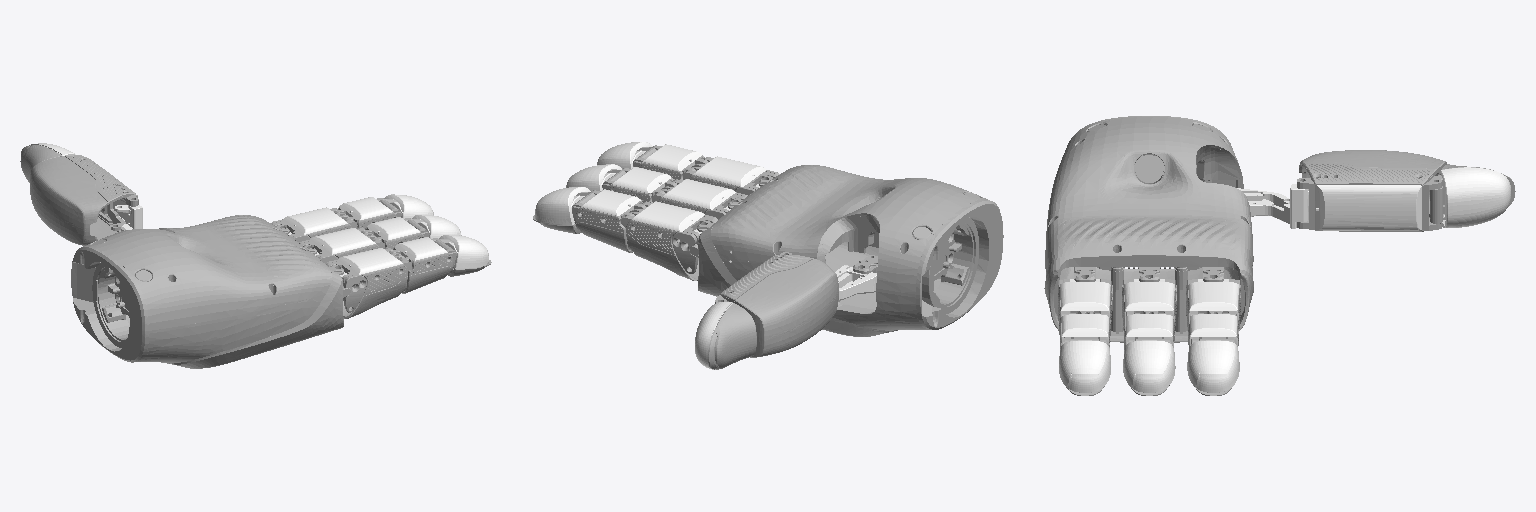
--- Facts derived from the render (not from the file) ---
The picture shows the robot from 3 angles, left to right: view 1: azimuth 30°, elevation 25°; view 2: azimuth 150°, elevation 25°; view 3: azimuth 270°, elevation 25°; orthographic projection.
Model DH13_left_palm_URDF with 28 links and 27 joints (16 revolute, 11 fixed), rooted at left_palm_link, posed all joints at 0.
Links seen in each view (by area): view 1: left_palm_link, left_thumb_link_2, left_ring_link_1, left_ring_link_2, left_ring_tactile_link_2, left_index_tactile_link_0, left_middle_tactile_link_0, left_ring_tactile_link_0, left_index_tactile_link_1, left_middle_tactile_link_1, left_ring_tactile_link_1, left_index_tactile_link_2 (+4 smaller); view 2: left_palm_link, left_thumb_link_2, left_index_link_1, left_thumb_link_3, left_index_link_2, left_index_tactile_link_2, left_middle_tactile_link_0, left_index_tactile_link_0, left_ring_tactile_link_0, left_thumb_tactile_link_1, left_middle_tactile_link_1, left_index_tactile_link_1 (+7 smaller); view 3: left_palm_link, left_thumb_link_2, left_thumb_tactile_link_0, left_thumb_tactile_link_1, left_index_tactile_link_2, left_middle_tactile_link_2, left_ring_tactile_link_2, left_thumb_link_1, left_middle_tactile_link_0, left_index_tactile_link_0, left_ring_tactile_link_0, left_ring_tactile_link_1 (+3 smaller).
Boxes of the visible links, box(x1,y1,x2,y2) form: left_palm_link: box(71, 215, 343, 368); left_thumb_link_2: box(30, 155, 138, 245); left_ring_link_1: box(326, 248, 411, 318); left_ring_link_2: box(390, 238, 456, 293); left_ring_tactile_link_2: box(439, 235, 488, 268); left_index_tactile_link_0: box(282, 207, 347, 236); left_middle_tactile_link_0: box(310, 228, 375, 255); left_ring_tactile_link_0: box(338, 248, 402, 276); left_index_tactile_link_1: box(340, 197, 393, 220); left_middle_tactile_link_1: box(367, 217, 420, 240); left_ring_tactile_link_1: box(395, 237, 447, 260); left_index_tactile_link_2: box(384, 194, 433, 218); left_palm_link: box(697, 165, 1003, 336); left_thumb_link_2: box(715, 252, 838, 357); left_index_link_1: box(621, 202, 717, 280); left_thumb_link_3: box(708, 303, 756, 369); left_index_link_2: box(572, 190, 646, 252); left_index_tactile_link_2: box(535, 187, 590, 224); left_middle_tactile_link_0: box(662, 179, 735, 211); left_index_tactile_link_0: box(631, 201, 704, 233); left_ring_tactile_link_0: box(692, 156, 765, 188); left_thumb_tactile_link_1: box(695, 302, 732, 369); left_middle_tactile_link_1: box(612, 167, 670, 193); left_index_tactile_link_1: box(581, 189, 640, 215); left_palm_link: box(1044, 116, 1253, 342); left_thumb_link_2: box(1297, 150, 1446, 231); left_thumb_tactile_link_0: box(1315, 185, 1421, 230); left_thumb_tactile_link_1: box(1440, 167, 1510, 227); left_index_tactile_link_2: box(1187, 340, 1239, 392); left_middle_tactile_link_2: box(1123, 340, 1175, 392); left_ring_tactile_link_2: box(1059, 340, 1110, 392); left_thumb_link_1: box(1237, 184, 1308, 228); left_middle_tactile_link_0: box(1124, 282, 1174, 310); left_index_tactile_link_0: box(1188, 282, 1238, 310); left_ring_tactile_link_0: box(1060, 282, 1110, 310); left_ring_tactile_link_1: box(1061, 314, 1108, 338).
Bounding box of the posed robot: 0.2351 × 0.231 × 0.0734 m (x, y, z).
Meshes: 28 distinct files referenced, 28 mesh visuals loaded (28 binary STL).

URDF robot description (DH13_left_palm_URDF):
<?xml version="1.0" encoding="utf-8"?>
<!-- This URDF was automatically created by SolidWorks to URDF Exporter! Originally created by Stephen Brawner ([email redacted]) 
     Commit Version: 1.6.0-4-g7f85cfe  Build Version: 1.6.7995.38578
     For more information, please see http://wiki.ros.org/sw_urdf_exporter -->
<robot
  name="DH13_left_palm_URDF">
  <link
    name="left_palm_link">
    <inertial>
      <origin
        xyz="0.0619602537322517 -0.000652875271475922 -0.0092300598640252"
        rpy="0 0 0" />
      <mass
        value="0.114850035049116" />
      <inertia
        ixx="0.000115733938774448"
        ixy="-3.21376034417078E-06"
        ixz="4.4061553978203E-06"
        iyy="0.000144743588986273"
        iyz="1.25052855296544E-06"
        izz="0.000233626280335495" />
    </inertial>
    <visual>
      <origin
        xyz="0 0 0"
        rpy="0 0 0" />
      <geometry>
        <mesh
          filename="../meshes/left_palm_link.STL" />
      </geometry>
      <material
        name="">
        <color
          rgba="0.752941176470588 0.752941176470588 0.752941176470588 1" />
      </material>
    </visual>
    <collision>
      <origin
        xyz="0 0 0"
        rpy="0 0 0" />
      <geometry>
        <mesh
          filename="../meshes/left_palm_link.STL" />
      </geometry>
    </collision>
  </link>
  <link
    name="left_index_link_0">
    <inertial>
      <origin
        xyz="0.000308195228183816 8.3996368194228E-10 8.96247998483091E-07"
        rpy="0 0 0" />
      <mass
        value="0.000177081456631794" />
      <inertia
        ixx="3.47636832307396E-09"
        ixy="-1.07333694547142E-16"
        ixz="-4.63192644831629E-13"
        iyy="6.72350002205211E-10"
        iyz="4.77943054887936E-17"
        izz="3.89708440173793E-09" />
    </inertial>
    <visual>
      <origin
        xyz="0 0 0"
        rpy="0 0 0" />
      <geometry>
        <mesh
          filename="../meshes/left_index_link_0.STL" />
      </geometry>
      <material
        name="">
        <color
          rgba="1 1 1 1" />
      </material>
    </visual>
    <collision>
      <origin
        xyz="0 0 0"
        rpy="0 0 0" />
      <geometry>
        <mesh
          filename="../meshes/left_index_link_0.STL" />
      </geometry>
    </collision>
  </link>
  <joint
    name="left_index_joint_0"
    type="revolute">
    <origin
      xyz="0.13528 0.0315 0.0017506"
      rpy="0 0 0" />
    <parent
      link="left_palm_link" />
    <child
      link="left_index_link_0" />
    <axis
      xyz="0 0 1" />
    <limit
      lower="-0.35"
      upper="0.35"
      effort="0"
      velocity="0" />
  </joint>
  <link
    name="left_index_link_1">
    <inertial>
      <origin
        xyz="0.0194589396792431 -0.00896260550719846 0.000103935319982956"
        rpy="0 0 0" />
      <mass
        value="0.00781831321760231" />
      <inertia
        ixx="7.53998255564426E-07"
        ixy="-1.78834042256135E-07"
        ixz="3.16446479421784E-08"
        iyy="1.81016063783436E-06"
        iyz="3.52882515460499E-09"
        izz="1.58828020977707E-06" />
    </inertial>
    <visual>
      <origin
        xyz="0 0 0"
        rpy="0 0 0" />
      <geometry>
        <mesh
          filename="../meshes/left_index_link_1.STL" />
      </geometry>
      <material
        name="">
        <color
          rgba="0.752941176470588 0.752941176470588 0.752941176470588 1" />
      </material>
    </visual>
    <collision>
      <origin
        xyz="0 0 0"
        rpy="0 0 0" />
      <geometry>
        <mesh
          filename="../meshes/left_index_link_1.STL" />
      </geometry>
    </collision>
  </link>
  <joint
    name="left_index_joint_1"
    type="revolute">
    <origin
      xyz="0 0 0"
      rpy="1.5708 0.00014676 0" />
    <parent
      link="left_index_link_0" />
    <child
      link="left_index_link_1" />
    <axis
      xyz="0 0 1" />
    <limit
      lower="0"
      upper="1.57"
      effort="0"
      velocity="0" />
  </joint>
  <link
    name="left_index_link_2">
    <inertial>
      <origin
        xyz="0.0137649513705245 -0.00728203304246869 0.000338258416843651"
        rpy="0 0 0" />
      <mass
        value="0.00444692322606636" />
      <inertia
        ixx="3.57392566982027E-07"
        ixy="-2.93910997199545E-08"
        ixz="7.16230689801157E-09"
        iyy="5.90554757691393E-07"
        iyz="1.80533852936307E-09"
        izz="4.33455951913949E-07" />
    </inertial>
    <visual>
      <origin
        xyz="0 0 0"
        rpy="0 0 0" />
      <geometry>
        <mesh
          filename="../meshes/left_index_link_2.STL" />
      </geometry>
      <material
        name="">
        <color
          rgba="0.752941176470588 0.752941176470588 0.752941176470588 1" />
      </material>
    </visual>
    <collision>
      <origin
        xyz="0 0 0"
        rpy="0 0 0" />
      <geometry>
        <mesh
          filename="../meshes/left_index_link_2.STL" />
      </geometry>
    </collision>
  </link>
  <joint
    name="left_index_joint_2"
    type="revolute">
    <origin
      xyz="0.040003 0 0"
      rpy="0 0 0" />
    <parent
      link="left_index_link_1" />
    <child
      link="left_index_link_2" />
    <axis
      xyz="0 0 1" />
    <limit
      lower="0"
      upper="1.57"
      effort="0"
      velocity="0" />
  </joint>
  <link
    name="left_index_link_3">
    <inertial>
      <origin
        xyz="0.00645312542848664 -0.0108039535066214 -3.55223693510043E-06"
        rpy="0 0 0" />
      <mass
        value="0.00370197453469582" />
      <inertia
        ixx="1.63160671097686E-07"
        ixy="6.26053672413219E-08"
        ixz="2.97414131259685E-10"
        iyy="3.84815149857633E-07"
        iyz="-8.74303319855967E-10"
        izz="3.08447026411227E-07" />
    </inertial>
    <visual>
      <origin
        xyz="0 0 0"
        rpy="0 0 0" />
      <geometry>
        <mesh
          filename="../meshes/left_index_link_3.STL" />
      </geometry>
      <material
        name="">
        <color
          rgba="0.752941176470588 0.752941176470588 0.752941176470588 1" />
      </material>
    </visual>
    <collision>
      <origin
        xyz="0 0 0"
        rpy="0 0 0" />
      <geometry>
        <mesh
          filename="../meshes/left_index_link_3.STL" />
      </geometry>
    </collision>
  </link>
  <joint
    name="left_index_joint_3"
    type="revolute">
    <origin
      xyz="0.03 0 0"
      rpy="0 0 0.00014676" />
    <parent
      link="left_index_link_2" />
    <child
      link="left_index_link_3" />
    <axis
      xyz="0 0 1" />
    <limit
      lower="0"
      upper="1.57"
      effort="0"
      velocity="0" />
  </joint>
  <link
    name="left_index_tactile_link_2">
    <inertial>
      <origin
        xyz="0.00010984582558804 0.00994169856371407 0.00443460135686191"
        rpy="0 0 0" />
      <mass
        value="0.00413497248792576" />
      <inertia
        ixx="2.22394609420004E-07"
        ixy="9.01941223971379E-10"
        ixz="8.94936656027316E-10"
        iyy="2.23755964771599E-07"
        iyz="2.47116906065146E-08"
        izz="3.54572782540681E-07" />
    </inertial>
    <visual>
      <origin
        xyz="0 0 0"
        rpy="0 0 0" />
      <geometry>
        <mesh
          filename="../meshes/left_index_tactile_link_2.STL" />
      </geometry>
      <material
        name="">
        <color
          rgba="1 1 1 1" />
      </material>
    </visual>
    <collision>
      <origin
        xyz="0 0 0"
        rpy="0 0 0" />
      <geometry>
        <mesh
          filename="../meshes/left_index_tactile_link_2.STL" />
      </geometry>
    </collision>
  </link>
  <joint
    name="left_index_tactile_joint_2"
    type="fixed">
    <origin
      xyz="0.0029506 -0.0067666 0"
      rpy="1.3775 -1.5708 3.1414" />
    <parent
      link="left_index_link_3" />
    <child
      link="left_index_tactile_link_2" />
    <axis
      xyz="0 0 0" />
  </joint>
  <link
    name="left_index_tactile_link_1">
    <inertial>
      <origin
        xyz="3.04173459037271E-05 0.0109528250638169 0.000700664921281513"
        rpy="0 0 0" />
      <mass
        value="0.00146306415297411" />
      <inertia
        ixx="5.85353585161419E-08"
        ixy="2.96608428377709E-11"
        ixz="-5.95189867681097E-13"
        iyy="6.03565235525379E-08"
        iyz="-1.48257223987302E-11"
        izz="1.1599442801858E-07" />
    </inertial>
    <visual>
      <origin
        xyz="0 0 0"
        rpy="0 0 0" />
      <geometry>
        <mesh
          filename="../meshes/left_index_tactile_link_1.STL" />
      </geometry>
      <material
        name="">
        <color
          rgba="1 1 1 1" />
      </material>
    </visual>
    <collision>
      <origin
        xyz="0 0 0"
        rpy="0 0 0" />
      <geometry>
        <mesh
          filename="../meshes/left_index_tactile_link_1.STL" />
      </geometry>
    </collision>
  </link>
  <joint
    name="left_index_tactile_joint_1"
    type="fixed">
    <origin
      xyz="0.0041704026780488 0.0024993623816178 0"
      rpy="1.57079632647319 -1.57079371076035 3.14143975558269" />
    <parent
      link="left_index_link_2" />
    <child
      link="left_index_tactile_link_1" />
    <axis
      xyz="0 0 0" />
  </joint>
  <link
    name="left_index_tactile_link_0">
    <inertial>
      <origin
        xyz="-5.63511261586491E-06 0.0140750206453986 0.000861641471389035"
        rpy="0 0 0" />
      <mass
        value="0.00202349085205058" />
      <inertia
        ixx="1.39860030738531E-07"
        ixy="1.33433035671206E-11"
        ixz="-1.25814539776453E-12"
        iyy="9.15846270131491E-08"
        iyz="-2.40330492314646E-10"
        izz="2.27693006389412E-07" />
    </inertial>
    <visual>
      <origin
        xyz="0 0 0"
        rpy="0 0 0" />
      <geometry>
        <mesh
          filename="../meshes/left_index_tactile_link_0.STL" />
      </geometry>
      <material
        name="">
        <color
          rgba="1 1 1 1" />
      </material>
    </visual>
    <collision>
      <origin
        xyz="0 0 0"
        rpy="0 0 0" />
      <geometry>
        <mesh
          filename="../meshes/left_index_tactile_link_0.STL" />
      </geometry>
    </collision>
  </link>
  <joint
    name="left_index_tactile_joint_0"
    type="fixed">
    <origin
      xyz="0.00726273957609502 0.00250106588932766 0"
      rpy="-1.57058258622936 -1.57079551035267 -6.69836868960227E-05" />
    <parent
      link="left_index_link_1" />
    <child
      link="left_index_tactile_link_0" />
    <axis
      xyz="0 0 0" />
  </joint>
  <link
    name="left_middle_link_0">
    <inertial>
      <origin
        xyz="0.000308195228183816 8.3996368194228E-10 8.96247998399824E-07"
        rpy="0 0 0" />
      <mass
        value="0.000177081456631792" />
      <inertia
        ixx="3.47636832307397E-09"
        ixy="-1.07333713228059E-16"
        ixz="-4.63192644834392E-13"
        iyy="6.72350002205219E-10"
        iyz="4.77943066032148E-17"
        izz="3.89708440173795E-09" />
    </inertial>
    <visual>
      <origin
        xyz="0 0 0"
        rpy="0 0 0" />
      <geometry>
        <mesh
          filename="../meshes/left_middle_link_0.STL" />
      </geometry>
      <material
        name="">
        <color
          rgba="1 1 1 1" />
      </material>
    </visual>
    <collision>
      <origin
        xyz="0 0 0"
        rpy="0 0 0" />
      <geometry>
        <mesh
          filename="../meshes/left_middle_link_0.STL" />
      </geometry>
    </collision>
  </link>
  <joint
    name="left_middle_joint_0"
    type="revolute">
    <origin
      xyz="0.13528 0 0.0017506"
      rpy="0 0 0" />
    <parent
      link="left_palm_link" />
    <child
      link="left_middle_link_0" />
    <axis
      xyz="0 0 1" />
    <limit
      lower="-0.35"
      upper="0.35"
      effort="0"
      velocity="0" />
  </joint>
  <link
    name="left_middle_link_1">
    <inertial>
      <origin
        xyz="0.019457622435072 -0.00896546033366338 0.000103933646935978"
        rpy="0 0 0" />
      <mass
        value="0.00781831490894491" />
      <inertia
        ixx="7.53945801466218E-07"
        ixy="-1.78678915537225E-07"
        ixz="3.16451379572346E-08"
        iyy="1.81021248671102E-06"
        iyz="3.52415581506794E-09"
        izz="1.58827961090761E-06" />
    </inertial>
    <visual>
      <origin
        xyz="0 0 0"
        rpy="0 0 0" />
      <geometry>
        <mesh
          filename="../meshes/left_middle_link_1.STL" />
      </geometry>
      <material
        name="">
        <color
          rgba="0.752941176470588 0.752941176470588 0.752941176470588 1" />
      </material>
    </visual>
    <collision>
      <origin
        xyz="0 0 0"
        rpy="0 0 0" />
      <geometry>
        <mesh
          filename="../meshes/left_middle_link_1.STL" />
      </geometry>
    </collision>
  </link>
  <joint
    name="left_middle_joint_1"
    type="revolute">
    <origin
      xyz="0 0 0"
      rpy="1.5708 0 0" />
    <parent
      link="left_middle_link_0" />
    <child
      link="left_middle_link_1" />
    <axis
      xyz="0 0 1" />
    <limit
      lower="0"
      upper="1.57"
      effort="0"
      velocity="0" />
  </joint>
  <link
    name="left_middle_link_2">
    <inertial>
      <origin
        xyz="0.0137649644299684 -0.00728200835653467 0.000338258418579679"
        rpy="0 0 0" />
      <mass
        value="0.00444692322547299" />
      <inertia
        ixx="3.57392672427593E-07"
        ixy="-2.93915178686944E-08"
        ixz="7.16230366448168E-09"
        iyy="5.90554652248589E-07"
        iyz="1.80535138296381E-09"
        izz="4.33455951893041E-07" />
    </inertial>
    <visual>
      <origin
        xyz="0 0 0"
        rpy="0 0 0" />
      <geometry>
        <mesh
          filename="../meshes/left_middle_link_2.STL" />
      </geometry>
      <material
        name="">
        <color
          rgba="0.752941176470588 0.752941176470588 0.752941176470588 1" />
      </material>
    </visual>
    <collision>
      <origin
        xyz="0 0 0"
        rpy="0 0 0" />
      <geometry>
        <mesh
          filename="../meshes/left_middle_link_2.STL" />
      </geometry>
    </collision>
  </link>
  <joint
    name="left_middle_joint_2"
    type="revolute">
    <origin
      xyz="0.039999 1.0076E-05 0"
      rpy="0 0 -0.00014676" />
    <parent
      link="left_middle_link_1" />
    <child
      link="left_middle_link_2" />
    <axis
      xyz="0 0 1" />
    <limit
      lower="0"
      upper="1.57"
      effort="0"
      velocity="0" />
  </joint>
  <link
    name="left_middle_link_3">
    <inertial>
      <origin
        xyz="0.00645845506845177 -0.0108161583189998 -3.53594241853106E-06"
        rpy="0 0 0" />
      <mass
        value="0.00370196607439818" />
      <inertia
        ixx="1.63141785032963E-07"
        ixy="6.25723340931989E-08"
        ixz="2.9652268142016E-10"
        iyy="3.84830903274596E-07"
        iyz="-8.73999124197106E-10"
        izz="3.0844468006252E-07" />
    </inertial>
    <visual>
      <origin
        xyz="0 0 0"
        rpy="0 0 0" />
      <geometry>
        <mesh
          filename="../meshes/left_middle_link_3.STL" />
      </geometry>
      <material
        name="">
        <color
          rgba="0.752941176470588 0.752941176470588 0.752941176470588 1" />
      </material>
    </visual>
    <collision>
      <origin
        xyz="0 0 0"
        rpy="0 0 0" />
      <geometry>
        <mesh
          filename="../meshes/left_middle_link_3.STL" />
      </geometry>
    </collision>
  </link>
  <joint
    name="left_middle_joint_3"
    type="revolute">
    <origin
      xyz="0.03 0 0"
      rpy="0 0 0" />
    <parent
      link="left_middle_link_2" />
    <child
      link="left_middle_link_3" />
    <axis
      xyz="0 0 1" />
    <limit
      lower="0"
      upper="1.57"
      effort="0"
      velocity="0" />
  </joint>
  <link
    name="left_middle_tactile_link_2">
    <inertial>
      <origin
        xyz="0.000109843796572751 0.00994169847304438 0.00443460160649595"
        rpy="0 0 0" />
      <mass
        value="0.00413497423479914" />
      <inertia
        ixx="2.22394643777709E-07"
        ixy="9.01931646398266E-10"
        ixz="8.94950869549866E-10"
        iyy="2.23756033916929E-07"
        iyz="2.47116931169251E-08"
        izz="3.54572878083296E-07" />
    </inertial>
    <visual>
      <origin
        xyz="0 0 0"
        rpy="0 0 0" />
      <geometry>
        <mesh
          filename="../meshes/left_middle_tactile_link_2.STL" />
      </geometry>
      <material
        name="">
        <color
          rgba="1 1 1 1" />
      </material>
    </visual>
    <collision>
      <origin
        xyz="0 0 0"
        rpy="0 0 0" />
      <geometry>
        <mesh
          filename="../meshes/left_middle_tactile_link_2.STL" />
      </geometry>
    </collision>
  </link>
  <joint
    name="left_middle_tactile_joint_2"
    type="fixed">
    <origin
      xyz="0.00295538034436049 -0.0067793019488733 0"
      rpy="-1.57079779588685 -1.57079631189374 -0.193133108720079" />
    <parent
      link="left_middle_link_3" />
    <child
      link="left_middle_tactile_link_2" />
    <axis
      xyz="0 0 0" />
  </joint>
  <link
    name="left_middle_tactile_link_1">
    <inertial>
      <origin
        xyz="3.04173458565149E-05 0.0109528250637748 0.000700664921253313"
        rpy="0 0 0" />
      <mass
        value="0.0014630641530959" />
      <inertia
        ixx="5.8535358520787E-08"
        ixy="2.96608462142378E-11"
        ixz="-5.95189066401845E-13"
        iyy="6.0356523553184E-08"
        iyz="-1.48257222092271E-11"
        izz="1.1599442802394E-07" />
    </inertial>
    <visual>
      <origin
        xyz="0 0 0"
        rpy="0 0 0" />
      <geometry>
        <mesh
          filename="../meshes/left_middle_tactile_link_1.STL" />
      </geometry>
      <material
        name="">
        <color
          rgba="1 1 1 1" />
      </material>
    </visual>
    <collision>
      <origin
        xyz="0 0 0"
        rpy="0 0 0" />
      <geometry>
        <mesh
          filename="../meshes/left_middle_tactile_link_1.STL" />
      </geometry>
    </collision>
  </link>
  <joint
    name="left_middle_tactile_joint_1"
    type="fixed">
    <origin
      xyz="0.0041704 0.0024994 0"
      rpy="1.5708 -1.5708 3.1414" />
    <parent
      link="left_middle_link_2" />
    <child
      link="left_middle_tactile_link_1" />
    <axis
      xyz="0 0 0" />
  </joint>
  <link
    name="left_middle_tactile_link_0">
    <inertial>
      <origin
        xyz="-5.6351126158094E-06 0.0140750206453983 0.000861641471389119"
        rpy="0 0 0" />
      <mass
        value="0.00202349085205063" />
      <inertia
        ixx="1.39860030738536E-07"
        ixy="1.3343303567731E-11"
        ixz="-1.25814539841226E-12"
        iyy="9.1584627013148E-08"
        iyz="-2.40330492314198E-10"
        izz="2.27693006389415E-07" />
    </inertial>
    <visual>
      <origin
        xyz="0 0 0"
        rpy="0 0 0" />
      <geometry>
        <mesh
          filename="../meshes/left_middle_tactile_link_0.STL" />
      </geometry>
      <material
        name="">
        <color
          rgba="1 1 1 1" />
      </material>
    </visual>
    <collision>
      <origin
        xyz="0 0 0"
        rpy="0 0 0" />
      <geometry>
        <mesh
          filename="../meshes/left_middle_tactile_link_0.STL" />
      </geometry>
    </collision>
  </link>
  <joint
    name="left_middle_tactile_joint_0"
    type="fixed">
    <origin
      xyz="0.0072631 0.0025 0"
      rpy="-1.5706 -1.5708 -0.00021374" />
    <parent
      link="left_middle_link_1" />
    <child
      link="left_middle_tactile_link_0" />
    <axis
      xyz="0 0 0" />
  </joint>
  <link
    name="left_ring_link_0">
    <inertial>
      <origin
        xyz="0.000308195228184038 8.39963820720158E-10 8.9624799842758E-07"
        rpy="0 0 0" />
      <mass
        value="0.000177081456631795" />
      <inertia
        ixx="3.47636832307397E-09"
        ixy="-1.07333753464588E-16"
        ixz="-4.63192644834919E-13"
        iyy="6.72350002205227E-10"
        iyz="4.7794307765683E-17"
        izz="3.89708440173796E-09" />
    </inertial>
    <visual>
      <origin
        xyz="0 0 0"
        rpy="0 0 0" />
      <geometry>
        <mesh
          filename="../meshes/left_ring_link_0.STL" />
      </geometry>
      <material
        name="">
        <color
          rgba="1 1 1 1" />
      </material>
    </visual>
    <collision>
      <origin
        xyz="0 0 0"
        rpy="0 0 0" />
      <geometry>
        <mesh
          filename="../meshes/left_ring_link_0.STL" />
      </geometry>
    </collision>
  </link>
  <joint
    name="left_ring_joint_0"
    type="revolute">
    <origin
      xyz="0.13528 -0.0315 0.0017506"
      rpy="0 0 0" />
    <parent
      link="left_palm_link" />
    <child
      link="left_ring_link_0" />
    <axis
      xyz="0 0 1" />
    <limit
      lower="-0.35"
      upper="0.35"
      effort="0"
      velocity="0" />
  </joint>
  <link
    name="left_ring_link_1">
    <inertial>
      <origin
        xyz="0.0194589421687703 -0.00896260378463978 0.000103935026229768"
        rpy="0 0 0" />
      <mass
        value="0.00781831642361804" />
      <inertia
        ixx="7.53998489096856E-07"
        ixy="-1.78834151245579E-07"
        ixz="3.16444480656156E-08"
        iyy="1.81016046510851E-06"
        iyz="3.5286945874487E-09"
        izz="1.58828011730219E-06" />
    </inertial>
    <visual>
      <origin
        xyz="0 0 0"
        rpy="0 0 0" />
      <geometry>
        <mesh
          filename="../meshes/left_ring_link_1.STL" />
      </geometry>
      <material
        name="">
        <color
          rgba="0.752941176470588 0.752941176470588 0.752941176470588 1" />
      </material>
    </visual>
    <collision>
      <origin
        xyz="0 0 0"
        rpy="0 0 0" />
      <geometry>
        <mesh
          filename="../meshes/left_ring_link_1.STL" />
      </geometry>
    </collision>
  </link>
  <joint
    name="left_ring_joint_1"
    type="revolute">
    <origin
      xyz="0 0 0"
      rpy="1.5708 0.00014676 0" />
    <parent
      link="left_ring_link_0" />
    <child
      link="left_ring_link_1" />
    <axis
      xyz="0 0 1" />
    <limit
      lower="0"
      upper="1.57"
      effort="0"
      velocity="0" />
  </joint>
  <link
    name="left_ring_link_2">
    <inertial>
      <origin
        xyz="0.0137660860819728 -0.00727988774476662 0.000338258550818371"
        rpy="0 0 0" />
      <mass
        value="0.00444692317418399" />
      <inertia
        ixx="3.57401735082266E-07"
        ixy="-2.94274350935314E-08"
        ixz="7.16202698818695E-09"
        iyy="5.90545589332119E-07"
        iyz="1.80645585155151E-09"
        izz="4.33455949575736E-07" />
    </inertial>
    <visual>
      <origin
        xyz="0 0 0"
        rpy="0 0 0" />
      <geometry>
        <mesh
          filename="../meshes/left_ring_link_2.STL" />
      </geometry>
      <material
        name="">
        <color
          rgba="0.752941176470588 0.752941176470588 0.752941176470588 1" />
      </material>
    </visual>
    <collision>
      <origin
        xyz="0 0 0"
        rpy="0 0 0" />
      <geometry>
        <mesh
          filename="../meshes/left_ring_link_2.STL" />
      </geometry>
    </collision>
  </link>
  <joint
    name="left_ring_joint_2"
    type="revolute">
    <origin
      xyz="0.040002 0 0"
      rpy="0 0 0" />
    <parent
      link="left_ring_link_1" />
    <child
      link="left_ring_link_2" />
    <axis
      xyz="0 0 1" />
    <limit
      lower="0"
      upper="1.57"
      effort="0"
      velocity="0" />
  </joint>
  <link
    name="left_ring_link_3">
    <inertial>
      <origin
        xyz="0.00645595343792149 -0.0108080212533208 -3.54092368126668E-06"
        rpy="0 0 0" />
      <mass
        value="0.00370196841594236" />
      <inertia
        ixx="1.63139956161409E-07"
        ixy="6.25689589453725E-08"
        ixz="2.96880326388843E-10"
        iyy="3.84833644958884E-07"
        iyz="-8.74061747894672E-10"
        izz="3.08445356040475E-07" />
    </inertial>
    <visual>
      <origin
        xyz="0 0 0"
        rpy="0 0 0" />
      <geometry>
        <mesh
          filename="../meshes/left_ring_link_3.STL" />
      </geometry>
      <material
        name="">
        <color
          rgba="0.752941176470588 0.752941176470588 0.752941176470588 1" />
      </material>
    </visual>
    <collision>
      <origin
        xyz="0 0 0"
        rpy="0 0 0" />
      <geometry>
        <mesh
          filename="../meshes/left_ring_link_3.STL" />
      </geometry>
    </collision>
  </link>
  <joint
    name="left_ring_joint_3"
    type="revolute">
    <origin
      xyz="0.03 0 0"
      rpy="0 0 0" />
    <parent
      link="left_ring_link_2" />
    <child
      link="left_ring_link_3" />
    <axis
      xyz="0 0 1" />
    <limit
      lower="0"
      upper="1.57"
      effort="0"
      velocity="0" />
  </joint>
  <link
    name="left_ring_tactile_link_2">
    <inertial>
      <origin
        xyz="0.000109845907778183 0.00994169940554845 0.00443460144589669"
        rpy="0 0 0" />
      <mass
        value="0.00413497296106218" />
      <inertia
        ixx="2.22394631853829E-07"
        ixy="9.01938906920883E-10"
        ixz="8.94937973359273E-10"
        iyy="2.23755981168416E-07"
        iyz="2.47116907597641E-08"
        izz="3.54572818899311E-07" />
    </inertial>
    <visual>
      <origin
        xyz="0 0 0"
        rpy="0 0 0" />
      <geometry>
        <mesh
          filename="../meshes/left_ring_tactile_link_2.STL" />
      </geometry>
      <material
        name="">
        <color
          rgba="1 1 1 1" />
      </material>
    </visual>
    <collision>
      <origin
        xyz="0 0 0"
        rpy="0 0 0" />
      <geometry>
        <mesh
          filename="../meshes/left_ring_tactile_link_2.STL" />
      </geometry>
    </collision>
  </link>
  <joint
    name="left_ring_tactile_joint_2"
    type="fixed">
    <origin
      xyz="0.0029528 -0.0067712 0"
      rpy="1.3777 -1.5708 3.1414" />
    <parent
      link="left_ring_link_3" />
    <child
      link="left_ring_tactile_link_2" />
    <axis
      xyz="0 0 0" />
  </joint>
  <link
    name="left_ring_tactile_link_1">
    <inertial>
      <origin
        xyz="3.08906469720649E-05 0.0109528237354612 0.000700664918859839"
        rpy="0 0 0" />
      <mass
        value="0.00146306416357068" />
      <inertia
        ixx="5.85353614871865E-08"
        ixy="2.97398338816656E-11"
        ixz="-5.95760834259862E-13"
        iyy="6.03565210422284E-08"
        iyz="-1.48256801247191E-11"
        izz="1.15994428485256E-07" />
    </inertial>
    <visual>
      <origin
        xyz="0 0 0"
        rpy="0 0 0" />
      <geometry>
        <mesh
          filename="../meshes/left_ring_tactile_link_1.STL" />
      </geometry>
      <material
        name="">
        <color
          rgba="1 1 1 1" />
      </material>
    </visual>
    <collision>
      <origin
        xyz="0 0 0"
        rpy="0 0 0" />
      <geometry>
        <mesh
          filename="../meshes/left_ring_tactile_link_1.STL" />
      </geometry>
    </collision>
  </link>
  <joint
    name="left_ring_tactile_joint_1"
    type="fixed">
    <origin
      xyz="0.00417 0.0025 0"
      rpy="-1.5708 -1.5708 0" />
    <parent
      link="left_ring_link_2" />
    <child
      link="left_ring_tactile_link_1" />
    <axis
      xyz="0 0 0" />
  </joint>
  <link
    name="left_ring_tactile_link_0">
    <inertial>
      <origin
        xyz="-5.63511300064046E-06 0.0140750206453969 0.000861641471388952"
        rpy="0 0 0" />
      <mass
        value="0.00202349085205029" />
      <inertia
        ixx="1.39860030738499E-07"
        ixy="1.33433049030222E-11"
        ixz="-1.25814539078765E-12"
        iyy="9.15846270131307E-08"
        iyz="-2.40330492313667E-10"
        izz="2.27693006389362E-07" />
    </inertial>
    <visual>
      <origin
        xyz="0 0 0"
        rpy="0 0 0" />
      <geometry>
        <mesh
          filename="../meshes/left_ring_tactile_link_0.STL" />
      </geometry>
      <material
        name="">
        <color
          rgba="1 1 1 1" />
      </material>
    </visual>
    <collision>
      <origin
        xyz="0 0 0"
        rpy="0 0 0" />
      <geometry>
        <mesh
          filename="../meshes/left_ring_tactile_link_0.STL" />
      </geometry>
    </collision>
  </link>
  <joint
    name="left_ring_tactile_joint_0"
    type="fixed">
    <origin
      xyz="0.00726273957609513 0.00250106588932753 0"
      rpy="-1.57058258399278 -1.57079551048867 -6.69859234767741E-05" />
    <parent
      link="left_ring_link_1" />
    <child
      link="left_ring_tactile_link_0" />
    <axis
      xyz="0 0 0" />
  </joint>
  <link
    name="left_thumb_link_0">
    <inertial>
      <origin
        xyz="4.07877848640492E-06 0.000308168187479391 8.96247222159641E-07"
        rpy="0 0 0" />
      <mass
        value="0.000177081454735602" />
      <inertia
        ixx="6.72841326153127E-10"
        ixy="3.71140042074355E-11"
        ixz="-6.17601320028604E-15"
        iyy="3.47587698468787E-09"
        iyz="-4.63151425727183E-13"
        izz="3.89708438692488E-09" />
    </inertial>
    <visual>
      <origin
        xyz="0 0 0"
        rpy="0 0 0" />
      <geometry>
        <mesh
          filename="../meshes/left_thumb_link_0.STL" />
      </geometry>
      <material
        name="">
        <color
          rgba="1 1 1 1" />
      </material>
    </visual>
    <collision>
      <origin
        xyz="0 0 0"
        rpy="0 0 0" />
      <geometry>
        <mesh
          filename="../meshes/left_thumb_link_0.STL" />
      </geometry>
    </collision>
  </link>
  <joint
    name="left_thumb_joint_0"
    type="revolute">
    <origin
      xyz="0.039278 0.0365 0.0017506"
      rpy="0 0 0" />
    <parent
      link="left_palm_link" />
    <child
      link="left_thumb_link_0" />
    <axis
      xyz="0 0 1" />
    <limit
      lower="-0.35"
      upper="0.35"
      effort="0"
      velocity="0" />
  </joint>
  <link
    name="left_thumb_link_1">
    <inertial>
      <origin
        xyz="0.0207891304232987 0.000590139361728748 0.00764772558132099"
        rpy="0 0 0" />
      <mass
        value="0.00460891442090188" />
      <inertia
        ixx="6.35407280475274E-07"
        ixy="-2.57183066130414E-07"
        ixz="-5.07819275797176E-07"
        iyy="1.49087394659636E-06"
        iyz="-1.63530606312856E-07"
        izz="1.14943186099795E-06" />
    </inertial>
    <visual>
      <origin
        xyz="0 0 0"
        rpy="0 0 0" />
      <geometry>
        <mesh
          filename="../meshes/left_thumb_link_1.STL" />
      </geometry>
      <material
        name="">
        <color
          rgba="1 1 1 1" />
      </material>
    </visual>
    <collision>
      <origin
        xyz="0 0 0"
        rpy="0 0 0" />
      <geometry>
        <mesh
          filename="../meshes/left_thumb_link_1.STL" />
      </geometry>
    </collision>
  </link>
  <joint
    name="left_thumb_joint_1"
    type="revolute">
    <origin
      xyz="0 0 0"
      rpy="1.5708 0 1.5576" />
    <parent
      link="left_thumb_link_0" />
    <child
      link="left_thumb_link_1" />
    <axis
      xyz="0 0 1" />
    <limit
      lower="0"
      upper="1.57"
      effort="0"
      velocity="0" />
  </joint>
  <link
    name="left_thumb_link_2">
    <inertial>
      <origin
        xyz="0.034136702886504 -0.0134318220605896 3.85117954471159E-08"
        rpy="0 0 0" />
      <mass
        value="0.0156717129789924" />
      <inertia
        ixx="3.26126461686007E-06"
        ixy="-1.57792734861393E-07"
        ixz="3.44737050254936E-08"
        iyy="7.9575890476065E-06"
        iyz="2.39297386761697E-10"
        izz="7.62945720146432E-06" />
    </inertial>
    <visual>
      <origin
        xyz="0 0 0"
        rpy="0 0 0" />
      <geometry>
        <mesh
          filename="../meshes/left_thumb_link_2.STL" />
      </geometry>
      <material
        name="">
        <color
          rgba="0.752941176470588 0.752941176470588 0.752941176470588 1" />
      </material>
    </visual>
    <collision>
      <origin
        xyz="0 0 0"
        rpy="0 0 0" />
      <geometry>
        <mesh
          filename="../meshes/left_thumb_link_2.STL" />
      </geometry>
    </collision>
  </link>
  <joint
    name="left_thumb_joint_2"
    type="revolute">
    <origin
      xyz="0.038999 0.0090001 0.0215"
      rpy="1.5708 0.013237 0" />
    <parent
      link="left_thumb_link_1" />
    <child
      link="left_thumb_link_2" />
    <axis
      xyz="0 0 1" />
    <limit
      lower="0"
      upper="1.57"
      effort="0"
      velocity="0" />
  </joint>
  <link
    name="left_thumb_link_3">
    <inertial>
      <origin
        xyz="0.0125263376904473 -0.0142487315033133 8.83087514769454E-05"
        rpy="0 0 0" />
      <mass
        value="0.00791693954918778" />
      <inertia
        ixx="5.28347782641034E-07"
        ixy="1.45554302039494E-07"
        ixz="1.01029042224066E-08"
        iyy="1.02733479426573E-06"
        iyz="-2.03473224460239E-09"
        izz="7.84817524777471E-07" />
    </inertial>
    <visual>
      <origin
        xyz="0 0 0"
        rpy="0 0 0" />
      <geometry>
        <mesh
          filename="../meshes/left_thumb_link_3.STL" />
      </geometry>
      <material
        name="">
        <color
          rgba="0.752941176470588 0.752941176470588 0.752941176470588 1" />
      </material>
    </visual>
    <collision>
      <origin
        xyz="0 0 0"
        rpy="0 0 0" />
      <geometry>
        <mesh
          filename="../meshes/left_thumb_link_3.STL" />
      </geometry>
    </collision>
  </link>
  <joint
    name="left_thumb_joint_3"
    type="revolute">
    <origin
      xyz="0.065494 0.00086701 0"
      rpy="0 0 0" />
    <parent
      link="left_thumb_link_2" />
    <child
      link="left_thumb_link_3" />
    <axis
      xyz="0 0 1" />
    <limit
      lower="0"
      upper="1.57"
      effort="0"
      velocity="0" />
  </joint>
  <link
    name="left_thumb_tactile_link_1">
    <inertial>
      <origin
        xyz="9.13097261134865E-08 0.0126852673804198 0.00466171959001738"
        rpy="0 0 0" />
      <mass
        value="0.00642512699539649" />
      <inertia
        ixx="5.39881113628604E-07"
        ixy="1.23107330190904E-11"
        ixz="-5.8910451911768E-13"
        iyy="4.31069790181947E-07"
        iyz="6.04503308079522E-08"
        izz="8.2587216077632E-07" />
    </inertial>
    <visual>
      <origin
        xyz="0 0 0"
        rpy="0 0 0" />
      <geometry>
        <mesh
          filename="../meshes/left_thumb_tactile_link_1.STL" />
      </geometry>
      <material
        name="">
        <color
          rgba="1 1 1 1" />
      </material>
    </visual>
    <collision>
      <origin
        xyz="0 0 0"
        rpy="0 0 0" />
      <geometry>
        <mesh
          filename="../meshes/left_thumb_tactile_link_1.STL" />
      </geometry>
    </collision>
  </link>
  <joint
    name="left_thumb_tactile_joint_1"
    type="fixed">
    <origin
      xyz="0.0044234 -0.0069828 0"
      rpy="1.4007 -1.5708 3.1414" />
    <parent
      link="left_thumb_link_3" />
    <child
      link="left_thumb_tactile_link_1" />
    <axis
      xyz="0 0 0" />
  </joint>
  <link
    name="left_thumb_tactile_link_0">
    <inertial>
      <origin
        xyz="2.23204865312798E-07 0.026386721306283 0.00156454202253342"
        rpy="0 0 0" />
      <mass
        value="0.00353856733982368" />
      <inertia
        ixx="7.21430657055439E-07"
        ixy="-2.45880091568241E-11"
        ixz="6.50313362428525E-13"
        iyy="1.45872919477122E-07"
        iyz="-8.67227747504153E-10"
        izz="8.60683280095541E-07" />
    </inertial>
    <visual>
      <origin
        xyz="0 0 0"
        rpy="0 0 0" />
      <geometry>
        <mesh
          filename="../meshes/left_thumb_tactile_link_0.STL" />
      </geometry>
      <material
        name="">
        <color
          rgba="1 1 1 1" />
      </material>
    </visual>
    <collision>
      <origin
        xyz="0 0 0"
        rpy="0 0 0" />
      <geometry>
        <mesh
          filename="../meshes/left_thumb_tactile_link_0.STL" />
      </geometry>
    </collision>
  </link>
  <joint
    name="left_thumb_tactile_joint_0"
    type="fixed">
    <origin
      xyz="0.0063893 0.004585 0"
      rpy="1.584 -1.5708 3.1414" />
    <parent
      link="left_thumb_link_2" />
    <child
      link="left_thumb_tactile_link_0" />
    <axis
      xyz="0 0 0" />
  </joint>
</robot>
